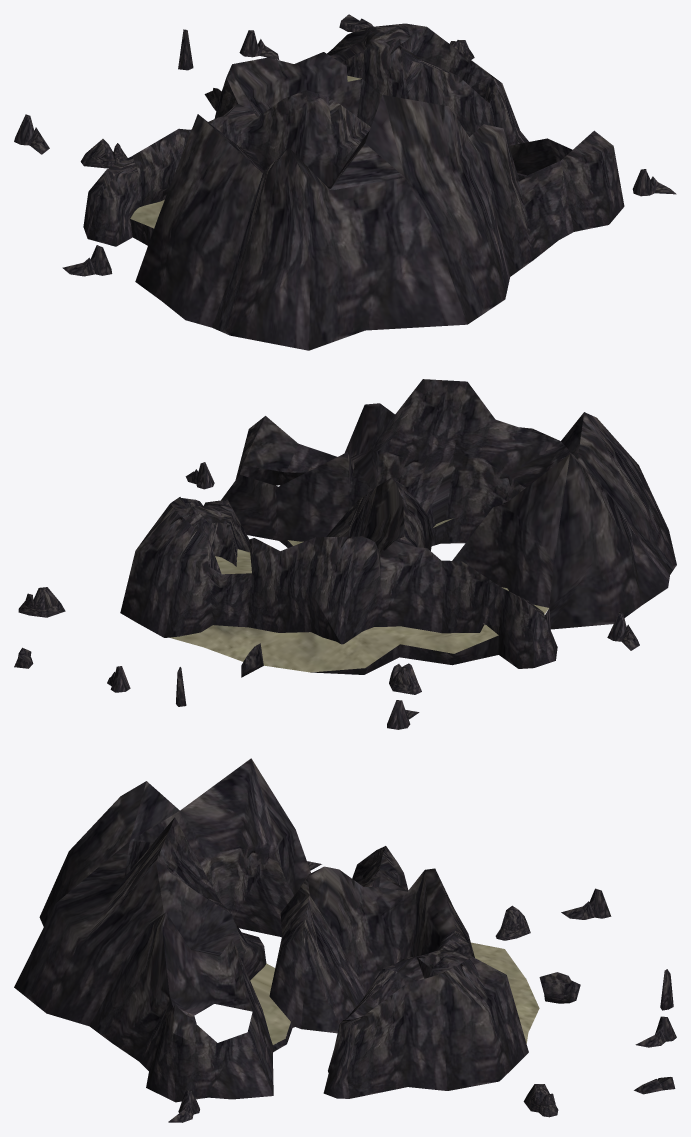
File: pir_m_are_isl_ravensCove_low.fbx
The picture shows the model from 3 angles, top to bottom: view 1: azimuth 30°, elevation 25°; view 2: azimuth 150°, elevation 25°; view 3: azimuth 270°, elevation 25°; orthographic projection. The views are drawn at different scales.
Parts seen in each view (by area): view 1: horizon_lod, pir_m_prp_ocn_rock_b_9, pir_m_prp_ocn_rock_a_15, pir_m_prp_ocn_rock_a_14, pir_m_prp_ocn_rock_a_13, rockFormation_0101, pir_m_prp_ocn_rock_a_11; view 2: horizon_lod, rockFormation_0101, pir_m_prp_ocn_rock_b_8, pir_m_prp_ocn_rock_b_9, pir_m_prp_ocn_rock_a_15, pir_m_prp_ocn_rock_a_14; view 3: horizon_lod, rockFormation_0101, pir_m_prp_cav_rockGroup_d_14rock7, pir_m_prp_ocn_rock_b_8, pir_m_prp_ocn_rock_a_14, pir_m_prp_ocn_rock_b_9, pir_m_prp_ocn_rock_a_11, pir_m_prp_ocn_rock_a_13.
Part boxes in pixels (bbox=[...]): horizon_lod: bbox=[83, 23, 624, 350]; pir_m_prp_ocn_rock_b_9: bbox=[80, 139, 127, 168]; pir_m_prp_ocn_rock_a_15: bbox=[62, 245, 112, 276]; pir_m_prp_ocn_rock_a_14: bbox=[14, 114, 49, 154]; pir_m_prp_ocn_rock_a_13: bbox=[632, 169, 676, 196]; rockFormation_0101: bbox=[130, 75, 361, 228]; pir_m_prp_ocn_rock_a_11: bbox=[239, 30, 279, 59]; horizon_lod: bbox=[120, 379, 676, 674]; rockFormation_0101: bbox=[170, 518, 548, 672]; pir_m_prp_ocn_rock_b_8: bbox=[18, 587, 65, 617]; pir_m_prp_ocn_rock_b_9: bbox=[389, 663, 421, 694]; pir_m_prp_ocn_rock_a_15: bbox=[607, 612, 639, 650]; pir_m_prp_ocn_rock_a_14: bbox=[387, 700, 419, 729]; horizon_lod: bbox=[14, 758, 528, 1102]; rockFormation_0101: bbox=[250, 942, 539, 1044]; pir_m_prp_cav_rockGroup_d_14rock7: bbox=[539, 972, 580, 1003]; pir_m_prp_ocn_rock_b_8: bbox=[523, 1084, 558, 1117]; pir_m_prp_ocn_rock_a_14: bbox=[561, 888, 611, 919]; pir_m_prp_ocn_rock_b_9: bbox=[495, 905, 530, 940]; pir_m_prp_ocn_rock_a_11: bbox=[635, 1016, 676, 1047]; pir_m_prp_ocn_rock_a_13: bbox=[168, 1090, 199, 1122].
Size of the model in its own units: 200862 by 64513 by 217110.
1 material, 1 textured.
